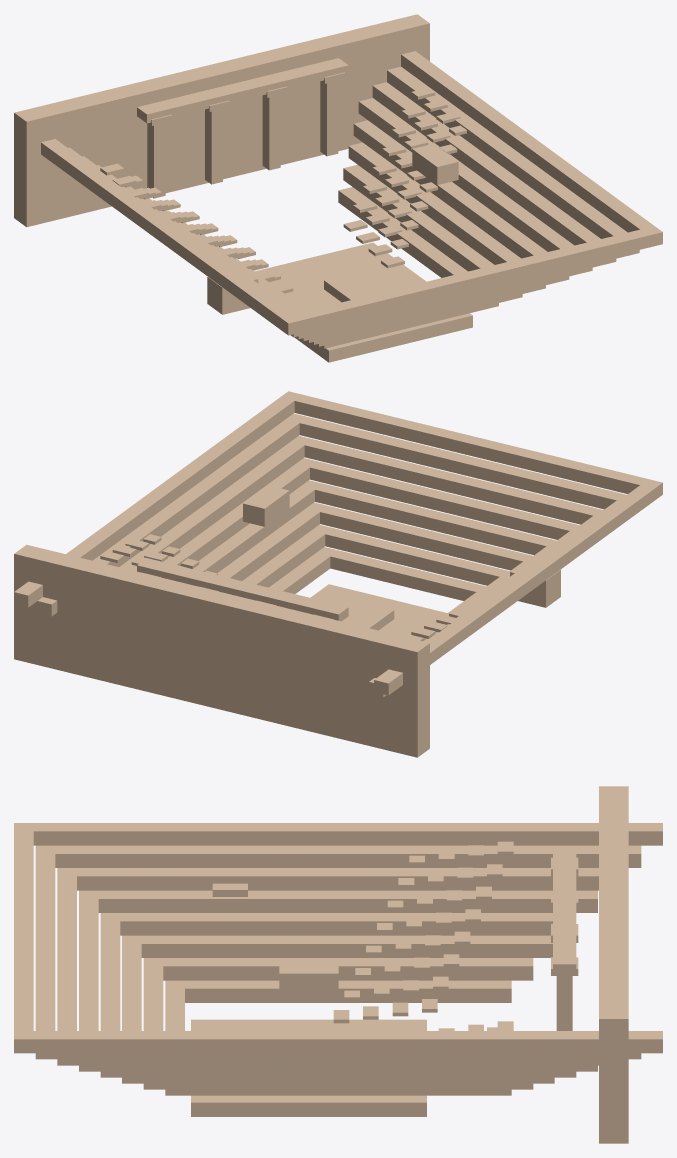
The model's file is baoli_stepwell.gltf.
The picture shows the model from 3 angles, top to bottom: view 1: azimuth 30°, elevation 25°; view 2: azimuth 150°, elevation 25°; view 3: azimuth 270°, elevation 25°; orthographic projection. The views are drawn at different scales.
Parts seen in each view (by area): view 1: BaoliStepwell_Root; view 2: BaoliStepwell_Root; view 3: BaoliStepwell_Root.
Boxes of the visible parts, x1,y1,x2,y2 form: BaoliStepwell_Root: (14, 14, 662, 362); BaoliStepwell_Root: (14, 391, 662, 757); BaoliStepwell_Root: (14, 786, 662, 1143).
Size of the model in its own units: 28 by 9.7 by 33.
